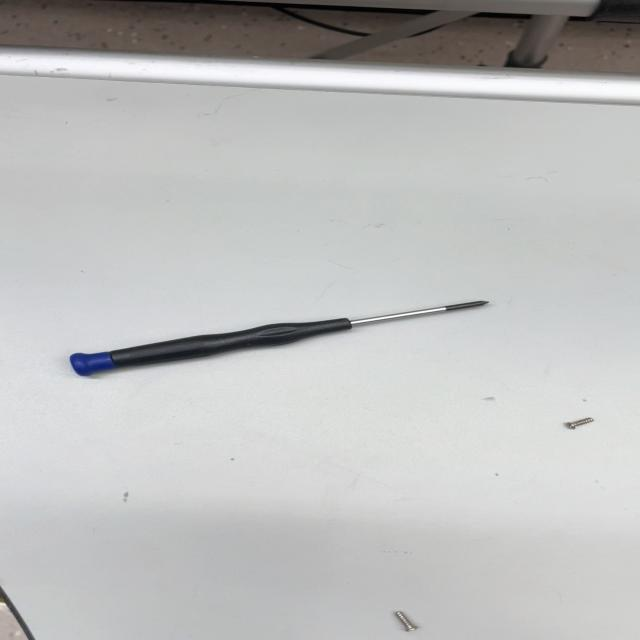screw: (371, 596, 427, 636), (553, 409, 601, 432)
screw_driver: (69, 294, 504, 384)
